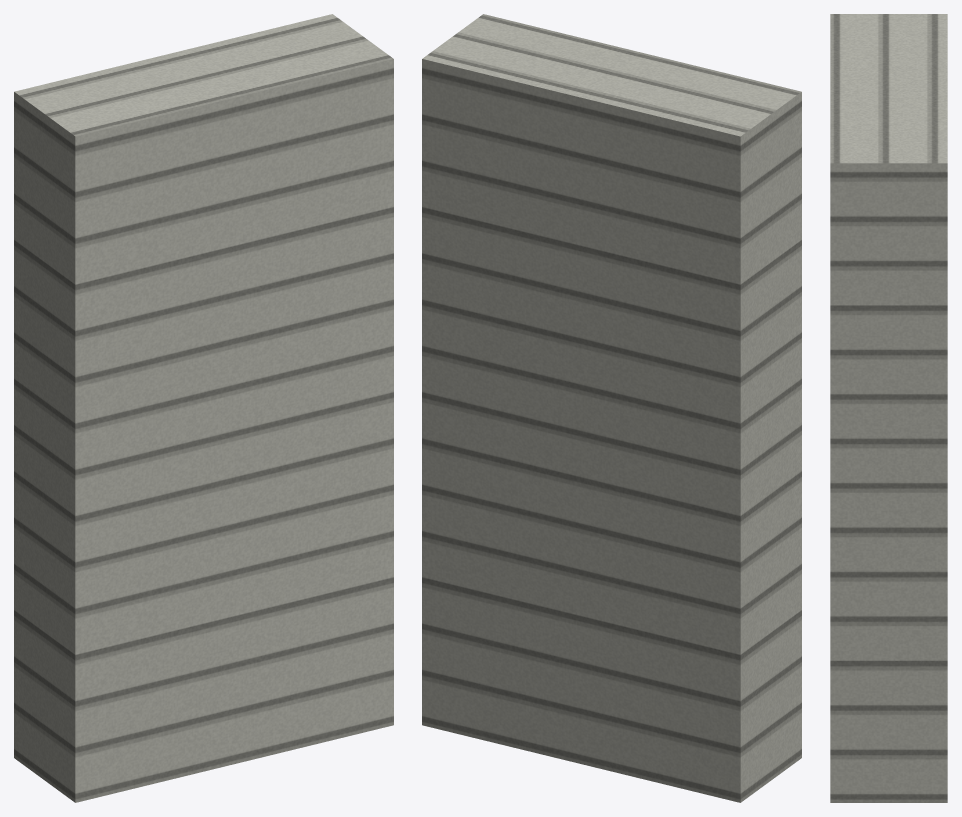
The model's file is bookshelf.glb.
3 views of the same model, side by side, from view 1: azimuth 30°, elevation 25°; view 2: azimuth 150°, elevation 25°; view 3: azimuth 270°, elevation 25° (orthographic). The views are drawn at different scales.
Parts seen in each view (by area): view 1: bookshelf-col; view 2: bookshelf-col; view 3: bookshelf-col.
Part boxes in pixels (x1=…): bookshelf-col: x1=14, y1=14, x2=393, y2=802; bookshelf-col: x1=422, y1=14, x2=801, y2=802; bookshelf-col: x1=830, y1=14, x2=947, y2=802.
Bounding box in the file's own units: 0.9 × 1.8 × 0.3.
1 material, 1 textured.
